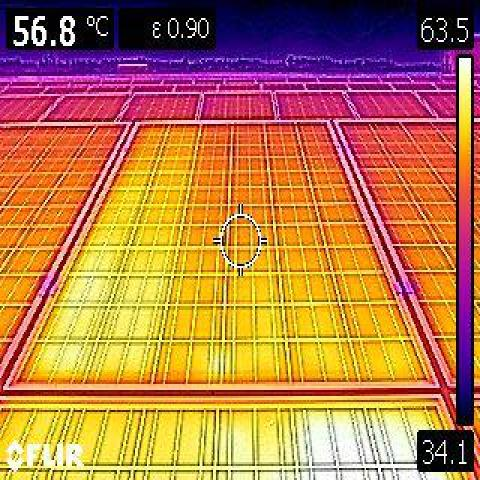fault: (286, 406, 413, 480), (68, 276, 151, 379)
